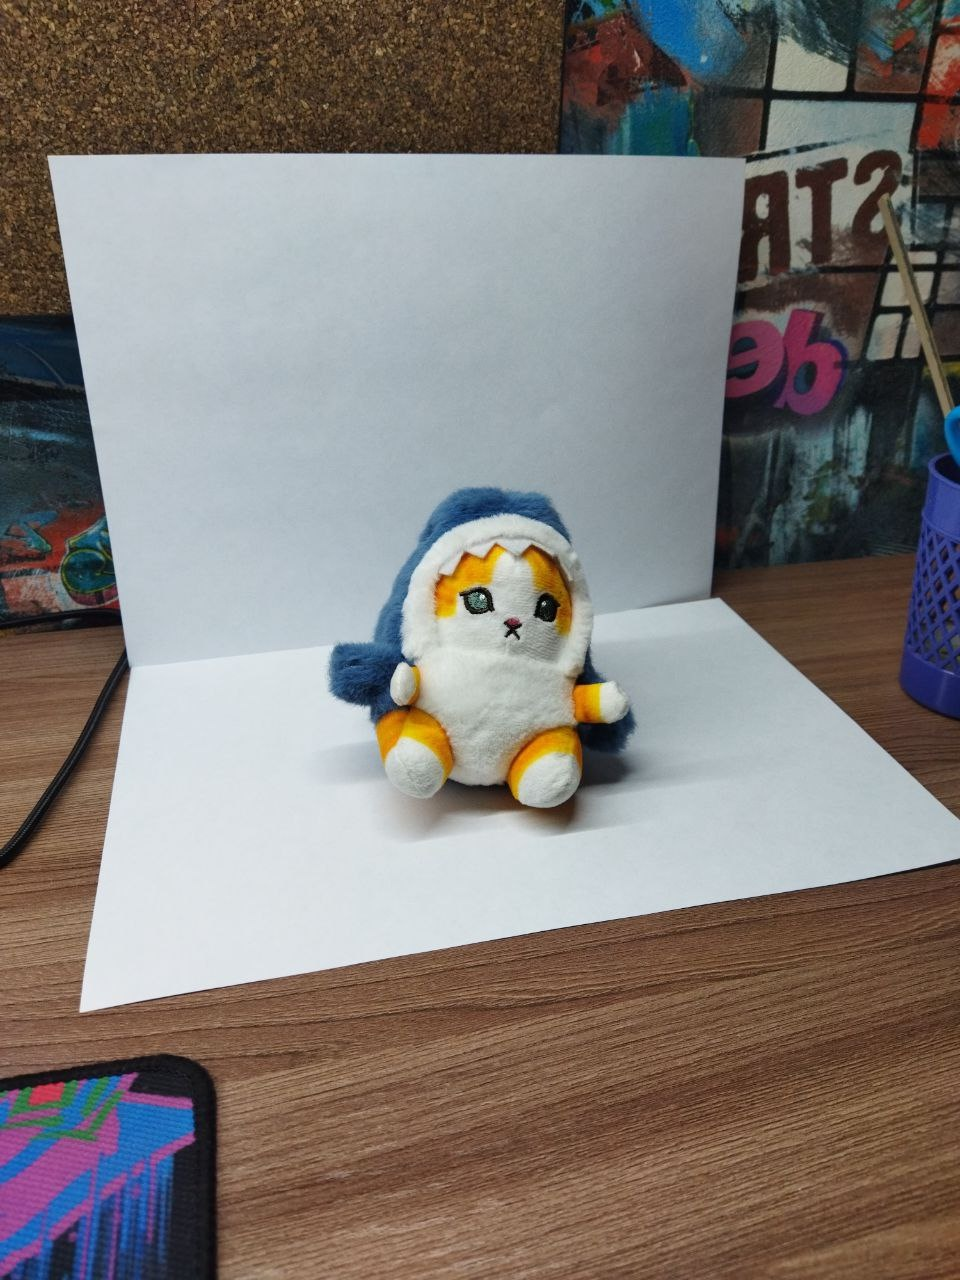Snark Cat: (328, 487, 635, 809)
